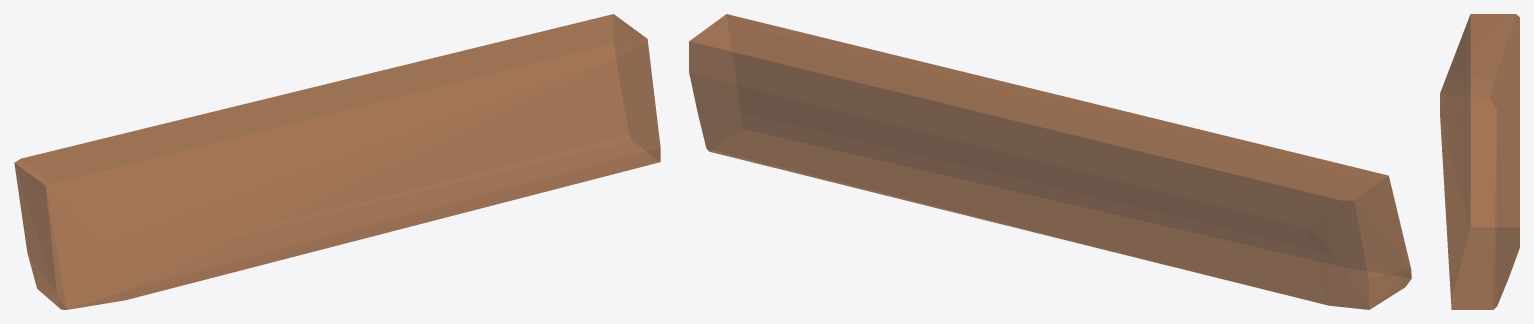
3 views of the same model, side by side, from view 1: azimuth 30°, elevation 25°; view 2: azimuth 150°, elevation 25°; view 3: azimuth 270°, elevation 25° (orthographic). The views are drawn at different scales.
Visible parts, largest first — view 1: Shape_IndexedFaceSet.005_Shape_IndexedFaceSet.15149; view 2: Shape_IndexedFaceSet.005_Shape_IndexedFaceSet.15149; view 3: Shape_IndexedFaceSet.005_Shape_IndexedFaceSet.15149.
Boxes of the visible parts, x1=… form: Shape_IndexedFaceSet.005_Shape_IndexedFaceSet.15149: x1=14, y1=14, x2=660, y2=309; Shape_IndexedFaceSet.005_Shape_IndexedFaceSet.15149: x1=689, y1=14, x2=1411, y2=309; Shape_IndexedFaceSet.005_Shape_IndexedFaceSet.15149: x1=1440, y1=14, x2=1519, y2=309.
Bounding box in the file's own units: 0.5381 × 0.0964 × 0.0843.
